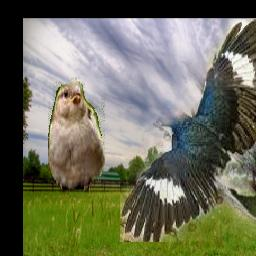Sparrow: (49, 78, 106, 199)
Woodpecker: (120, 20, 256, 243)
